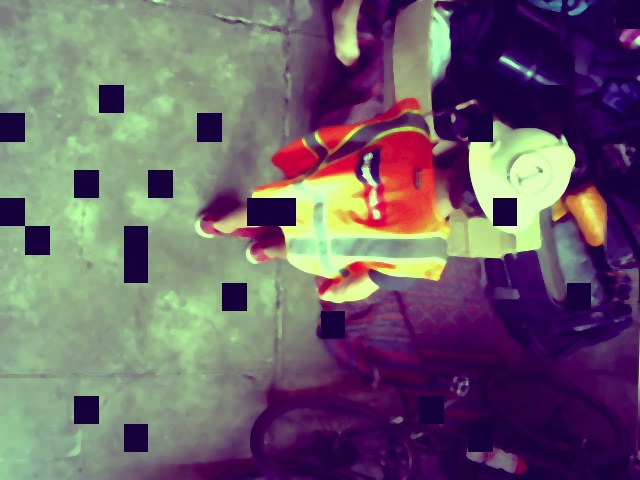one: (509, 152, 552, 195)
